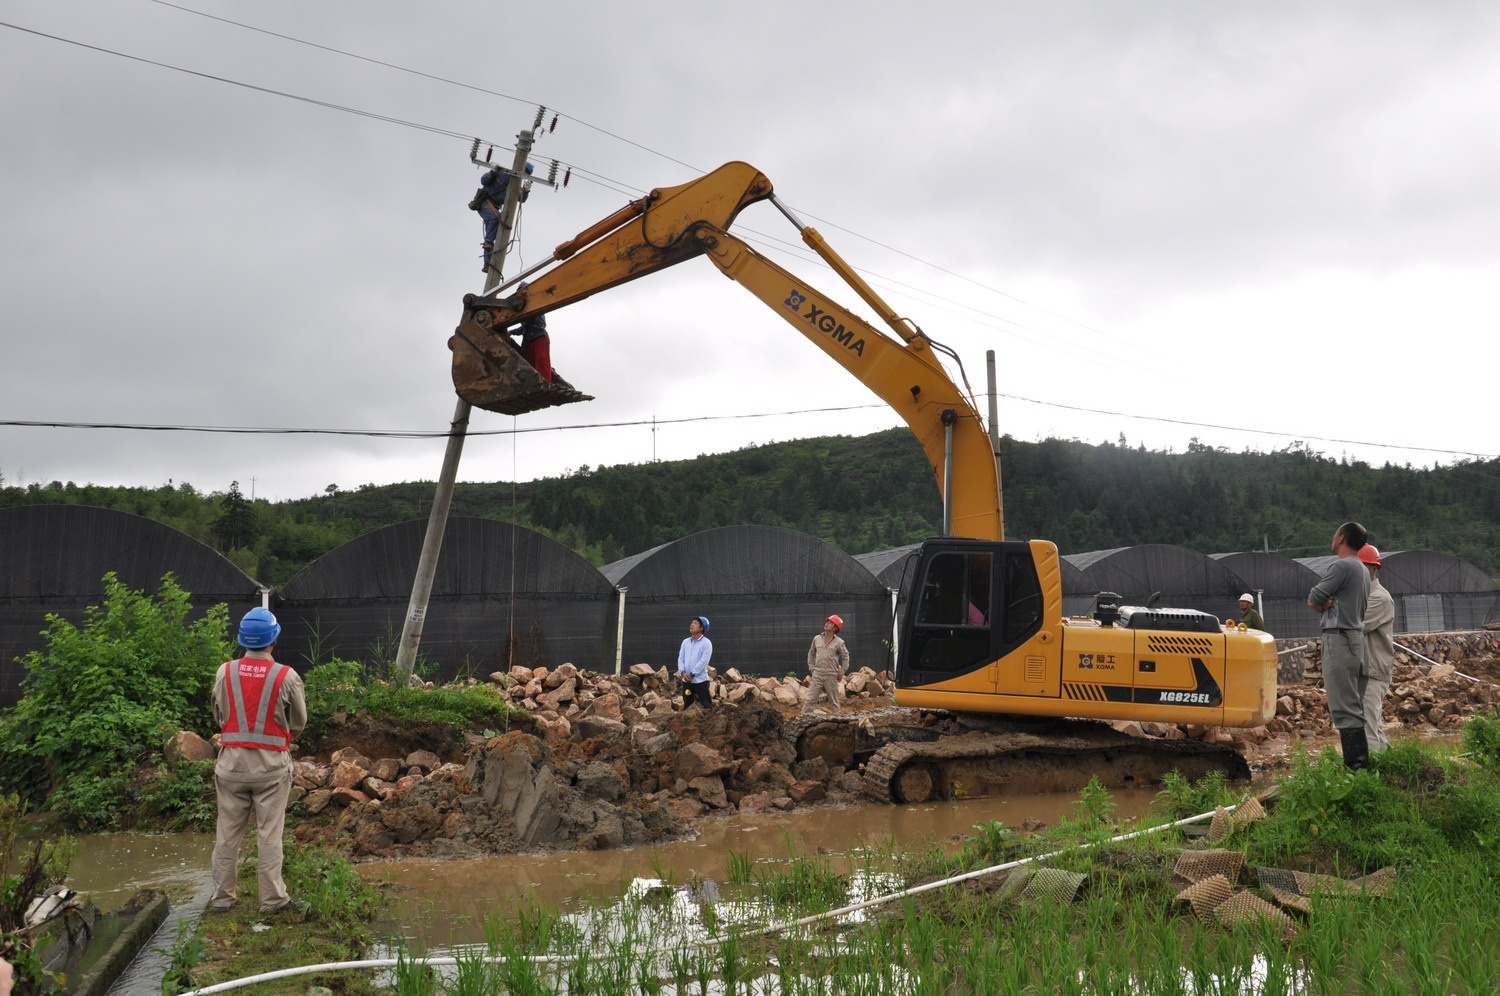blue: (236, 605, 280, 656), (686, 615, 711, 637)
none: (1330, 521, 1364, 557)
red: (1356, 542, 1381, 578), (822, 615, 843, 636)
white: (1237, 592, 1256, 610)
